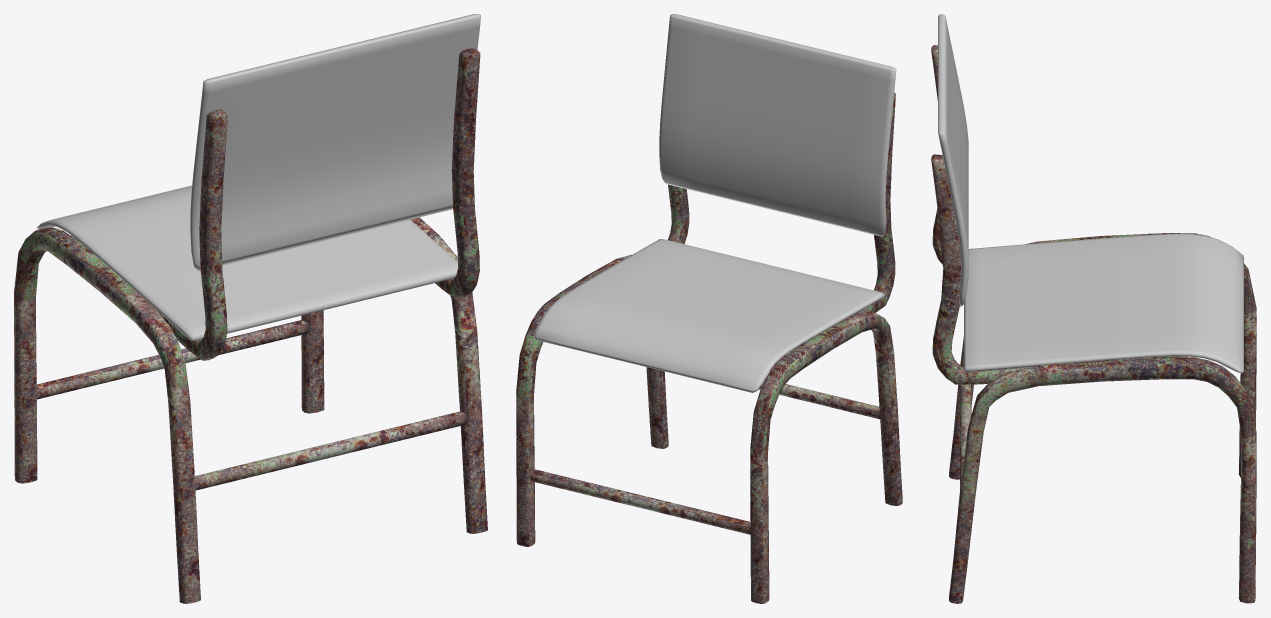
The model's file is chair2.FBX.
3 views of the same model, side by side, from view 1: azimuth 30°, elevation 25°; view 2: azimuth 150°, elevation 25°; view 3: azimuth 270°, elevation 25° (orthographic). The views are drawn at different scales.
Visible parts, largest first — view 1: chair2; view 2: chair2; view 3: chair2.
Part boxes in pixels (<box>): chair2: <box>14,14,487,603</box>; chair2: <box>516,14,902,603</box>; chair2: <box>931,14,1256,603</box>.
Size of the model in its own units: 0.4729 by 0.7745 by 0.4911.
